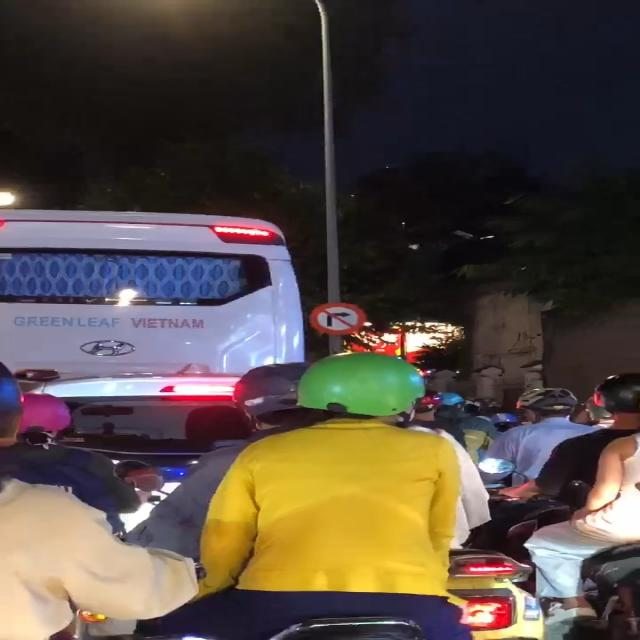Bien bao cam re phai: (308, 300, 372, 335)
